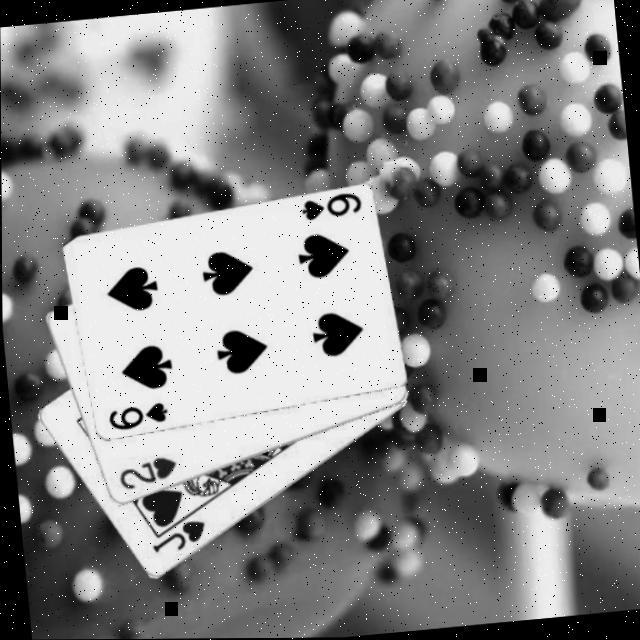2H: (112, 452, 179, 492)
6S: (103, 398, 169, 432), (296, 189, 362, 223)
JH: (144, 516, 208, 554)
